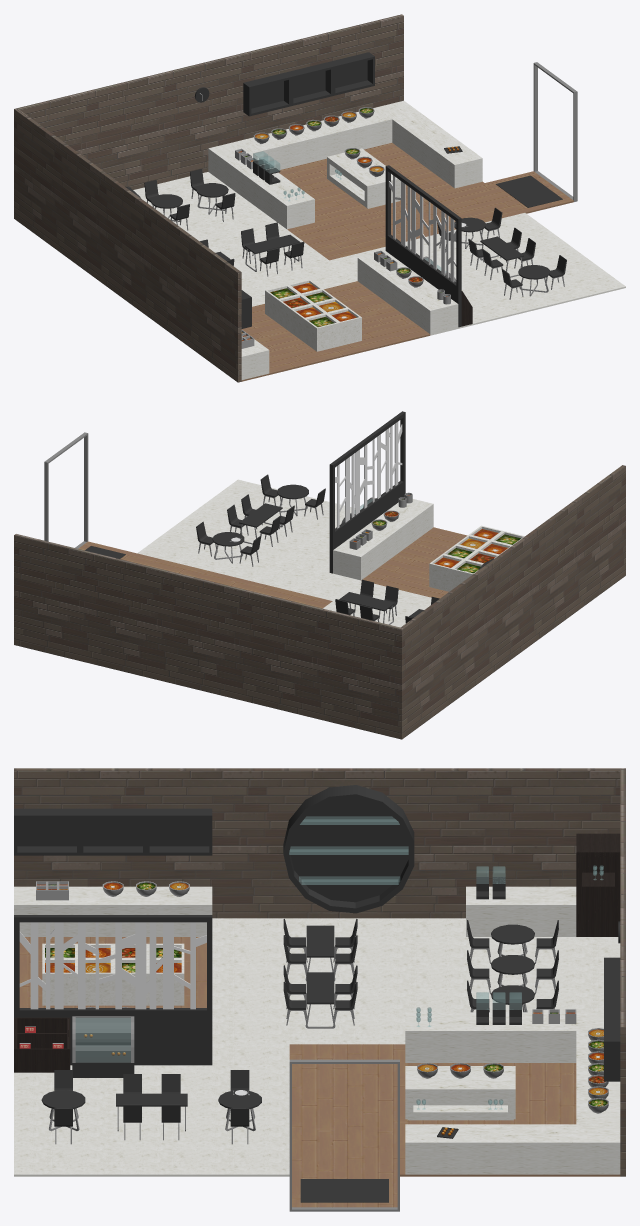
The model's file is restaurant.glb.
3 views of the same model, one above another, from view 1: azimuth 30°, elevation 25°; view 2: azimuth 150°, elevation 25°; view 3: azimuth 270°, elevation 25° (orthographic). The views are drawn at different scales.
Bounding box in the file's own units: 24.8 × 5.91 × 21.85.
Materials: 18 (11 with a texture image).
